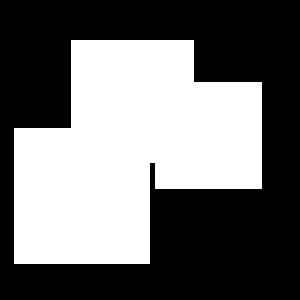circle: (14, 128, 150, 264), (71, 40, 194, 163), (155, 82, 262, 189)
